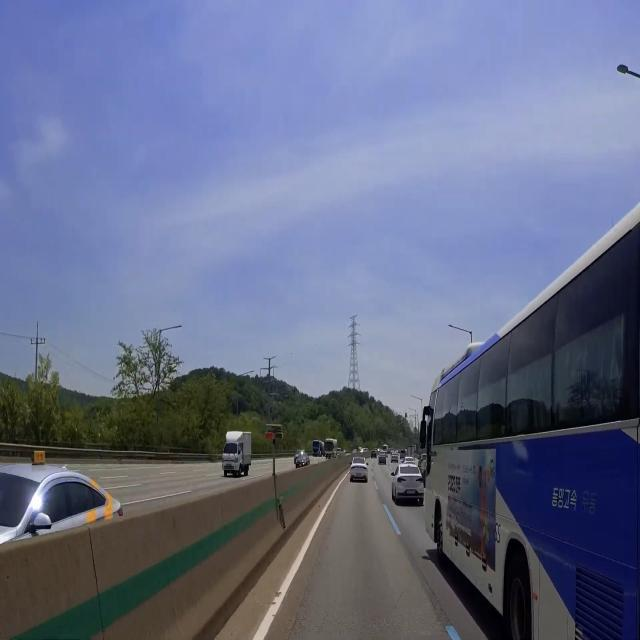car: (406, 489, 418, 497), (355, 472, 362, 479), (226, 462, 232, 467), (298, 464, 302, 468)
